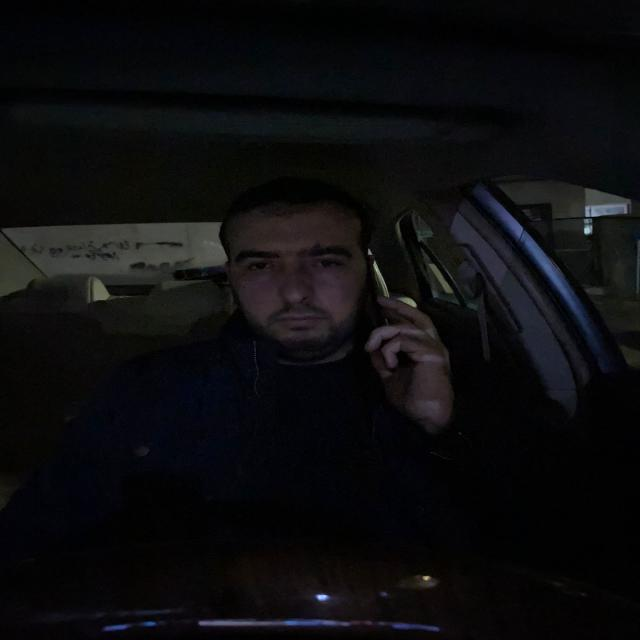mobile: (357, 264, 403, 384)
person: (213, 184, 374, 353)
